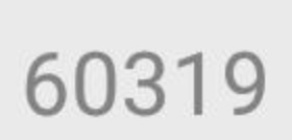TextView: (1, 1, 291, 139)
